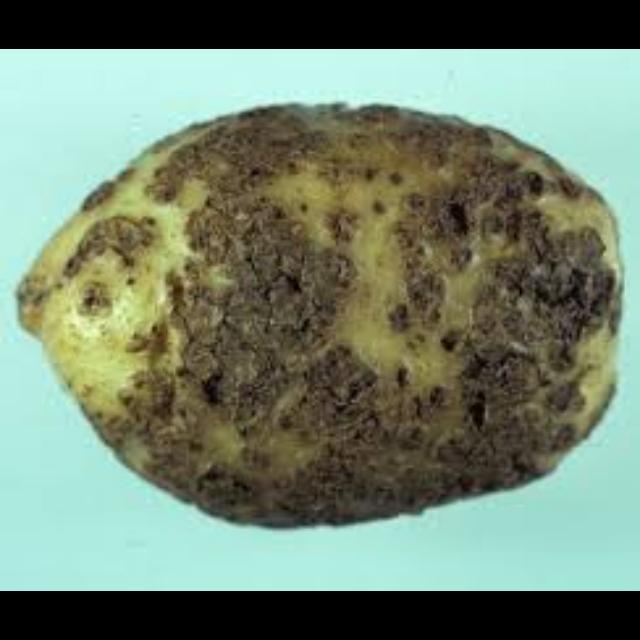Diseased-fungal potato: (13, 97, 625, 540)
